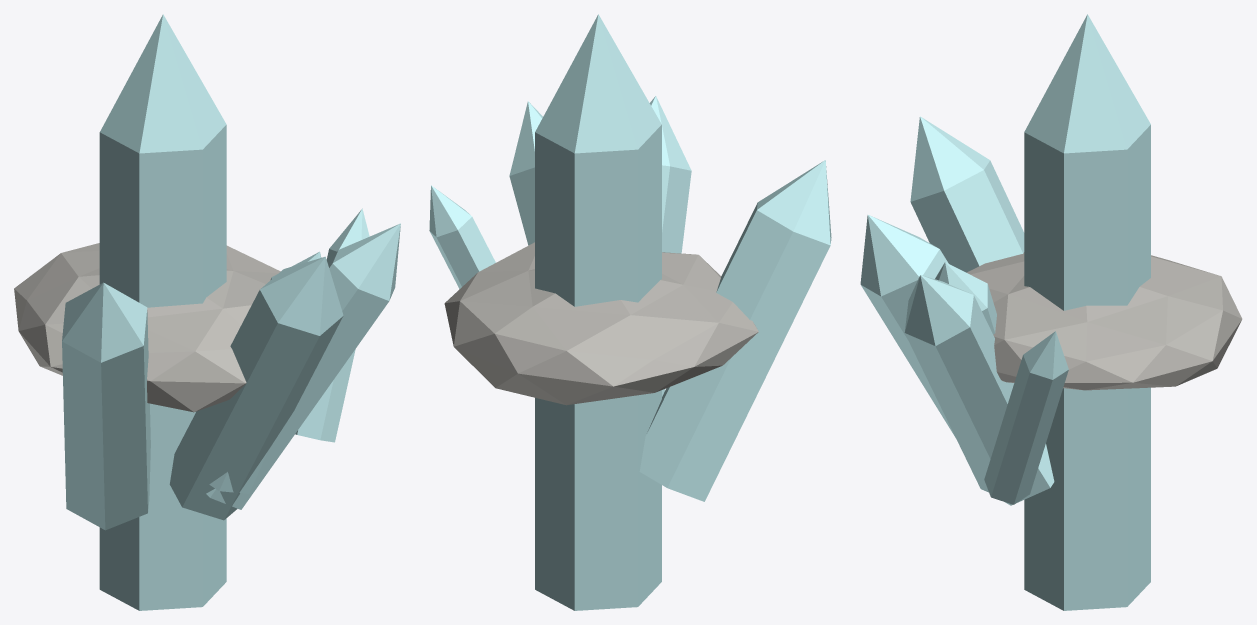
File: crystal_node.glb
3 renders of one model, left to right at view 1: azimuth 30°, elevation 25°; view 2: azimuth 150°, elevation 25°; view 3: azimuth 270°, elevation 25°, orthographic.
Parts seen in each view (by area): view 1: crystal_node; view 2: crystal_node; view 3: crystal_node.
Boxes of the visible parts, x1,y1,x2,y2 form: crystal_node: (14, 14, 400, 610); crystal_node: (429, 14, 831, 610); crystal_node: (860, 14, 1242, 610).
Size of the model in its own units: 0.9692 by 1.5 by 0.9082.
